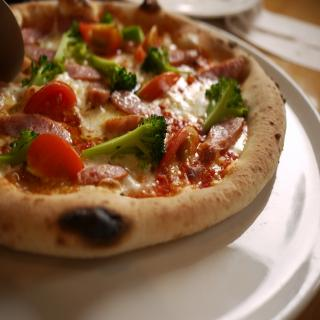Pizza: (0, 0, 297, 275)
